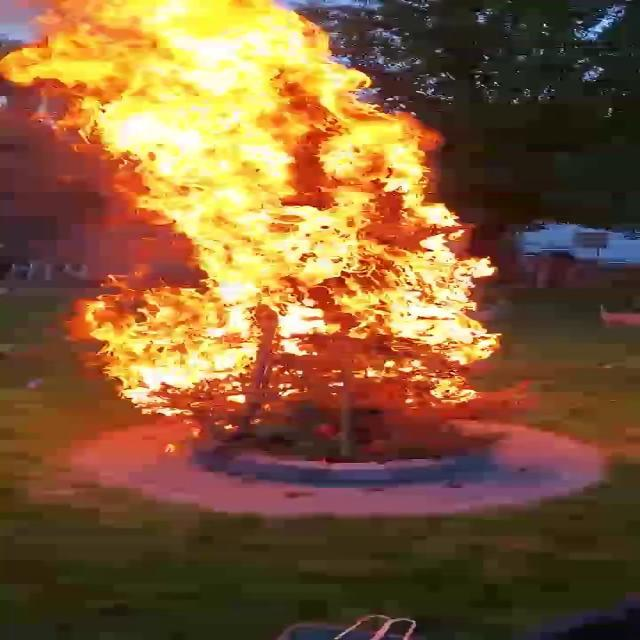Fire: (3, 1, 513, 412)
